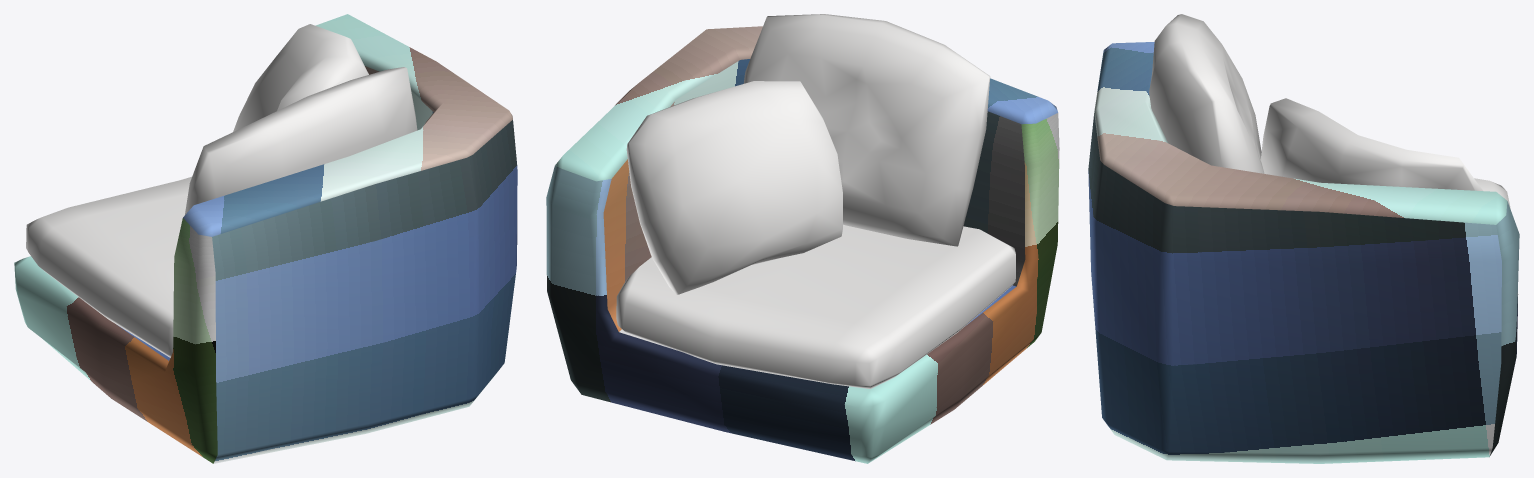
File: P_StoneSofaCorner.glb
The picture shows the model from 3 angles, left to right: view 1: azimuth 30°, elevation 25°; view 2: azimuth 150°, elevation 25°; view 3: azimuth 270°, elevation 25°; orthographic projection. The views are drawn at different scales.
Visible parts, largest first — view 1: P_StoneSofaCorner; view 2: P_StoneSofaCorner; view 3: P_StoneSofaCorner.
Boxes of the visible parts, x1=… form: P_StoneSofaCorner: x1=14, y1=14, x2=517, y2=463; P_StoneSofaCorner: x1=546, y1=14, x2=1059, y2=463; P_StoneSofaCorner: x1=1088, y1=14, x2=1519, y2=463.
Bounding box in the file's own units: 1.01 × 0.8577 × 1.01.
Materials: 1 (1 with a texture image).
